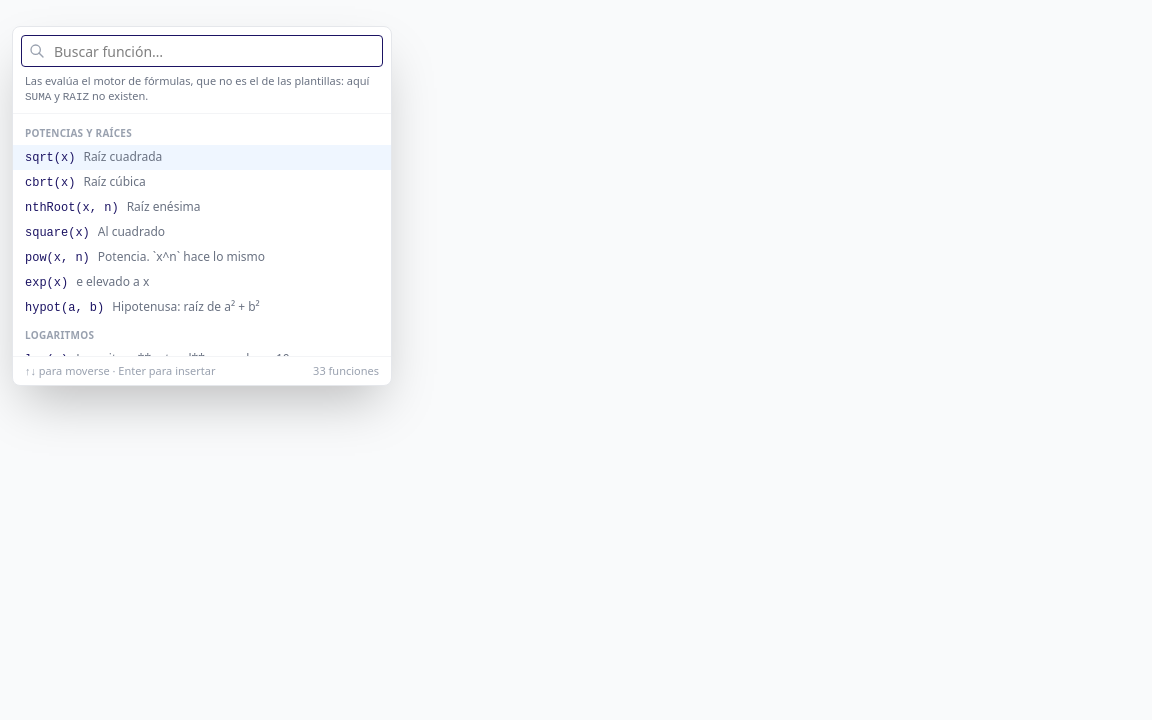
Test case: el buscador de funciones › dice qué hacer cuando no hay coincidencias
Step 1. Type "buscarv" into the field with placeholder "Buscar función…" → x=202, y=51, box x1=21 y1=35 x2=383 y2=67
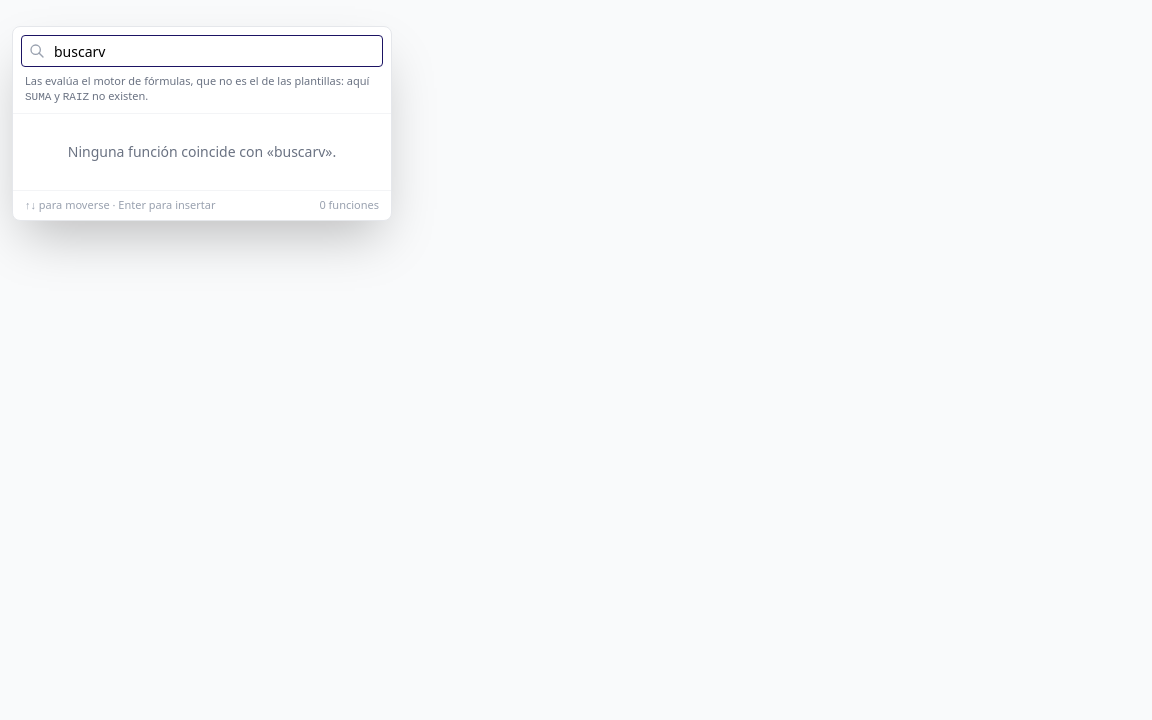
Check: the text "Ninguna función coincide con «buscarv»." is shown, box x1=68 y1=142 x2=336 y2=161
